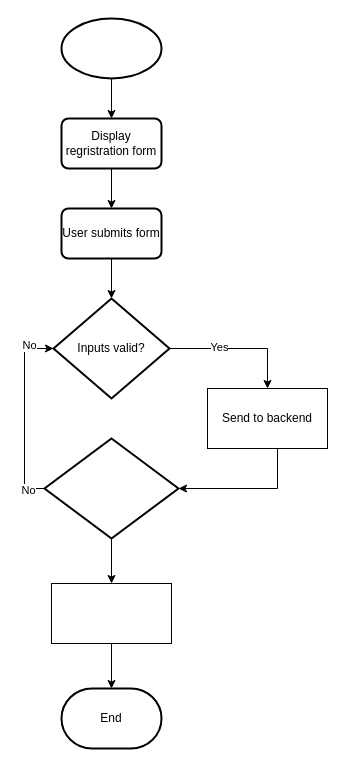
Image size: 345x766. Some labels were removed from this diagram. Here are the shapes that lost their labels. From the top down, the centre of each, then its label:
pixel 111 48: Start
pixel 111 488: Regristration Successful?
pixel 111 613: Redirect to login
